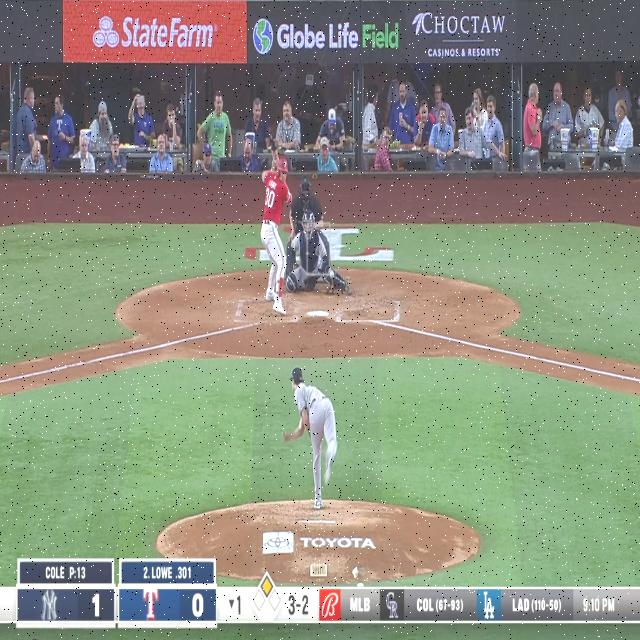baseball: (329, 269, 335, 279)
